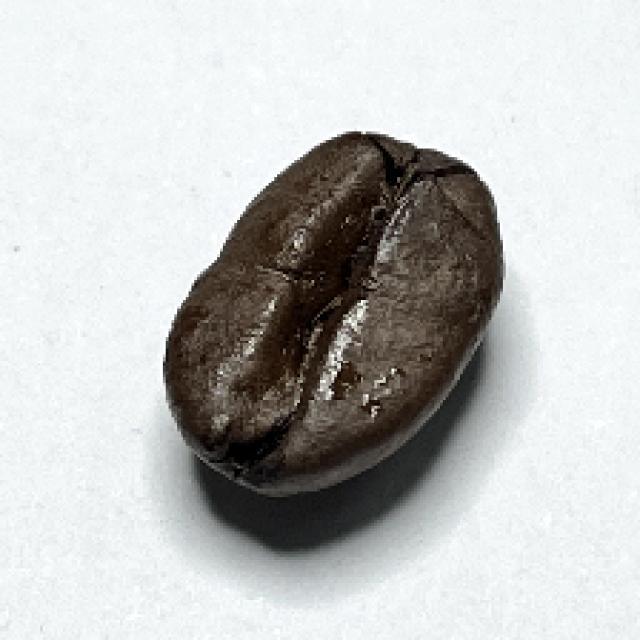bean: (158, 129, 508, 497)
